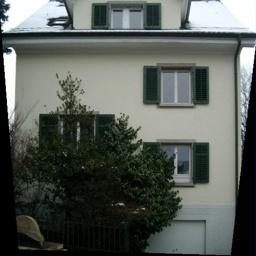building: (15, 0, 240, 256)
